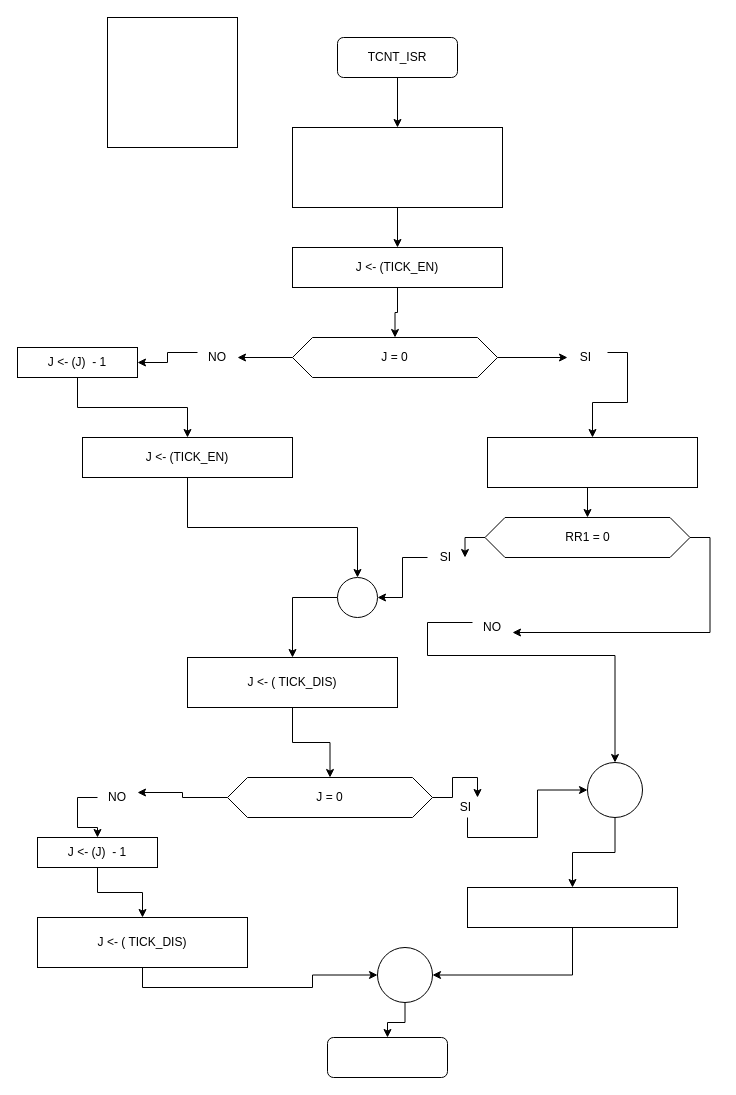
The diagram is 736 pixels wide and 1095 high, and some of its shapes have lost their labels. The centre of each missing label's shape, as x and y in pixels:
"BANDERAS.3 <- 1" goes at [572,907].
"C - carry K. - Y J - X R1 - A R2 - B RR1 - D" goes at [172,82].
"RETURN" goes at [387,1057].
"RR1 <- ( TCNT) J <- (TICK_MED) J <- (J) + 1 TICK_MED <- (J)" goes at [397,167].
"RR1 <- ( TICK_DIS)" goes at [592,462].
